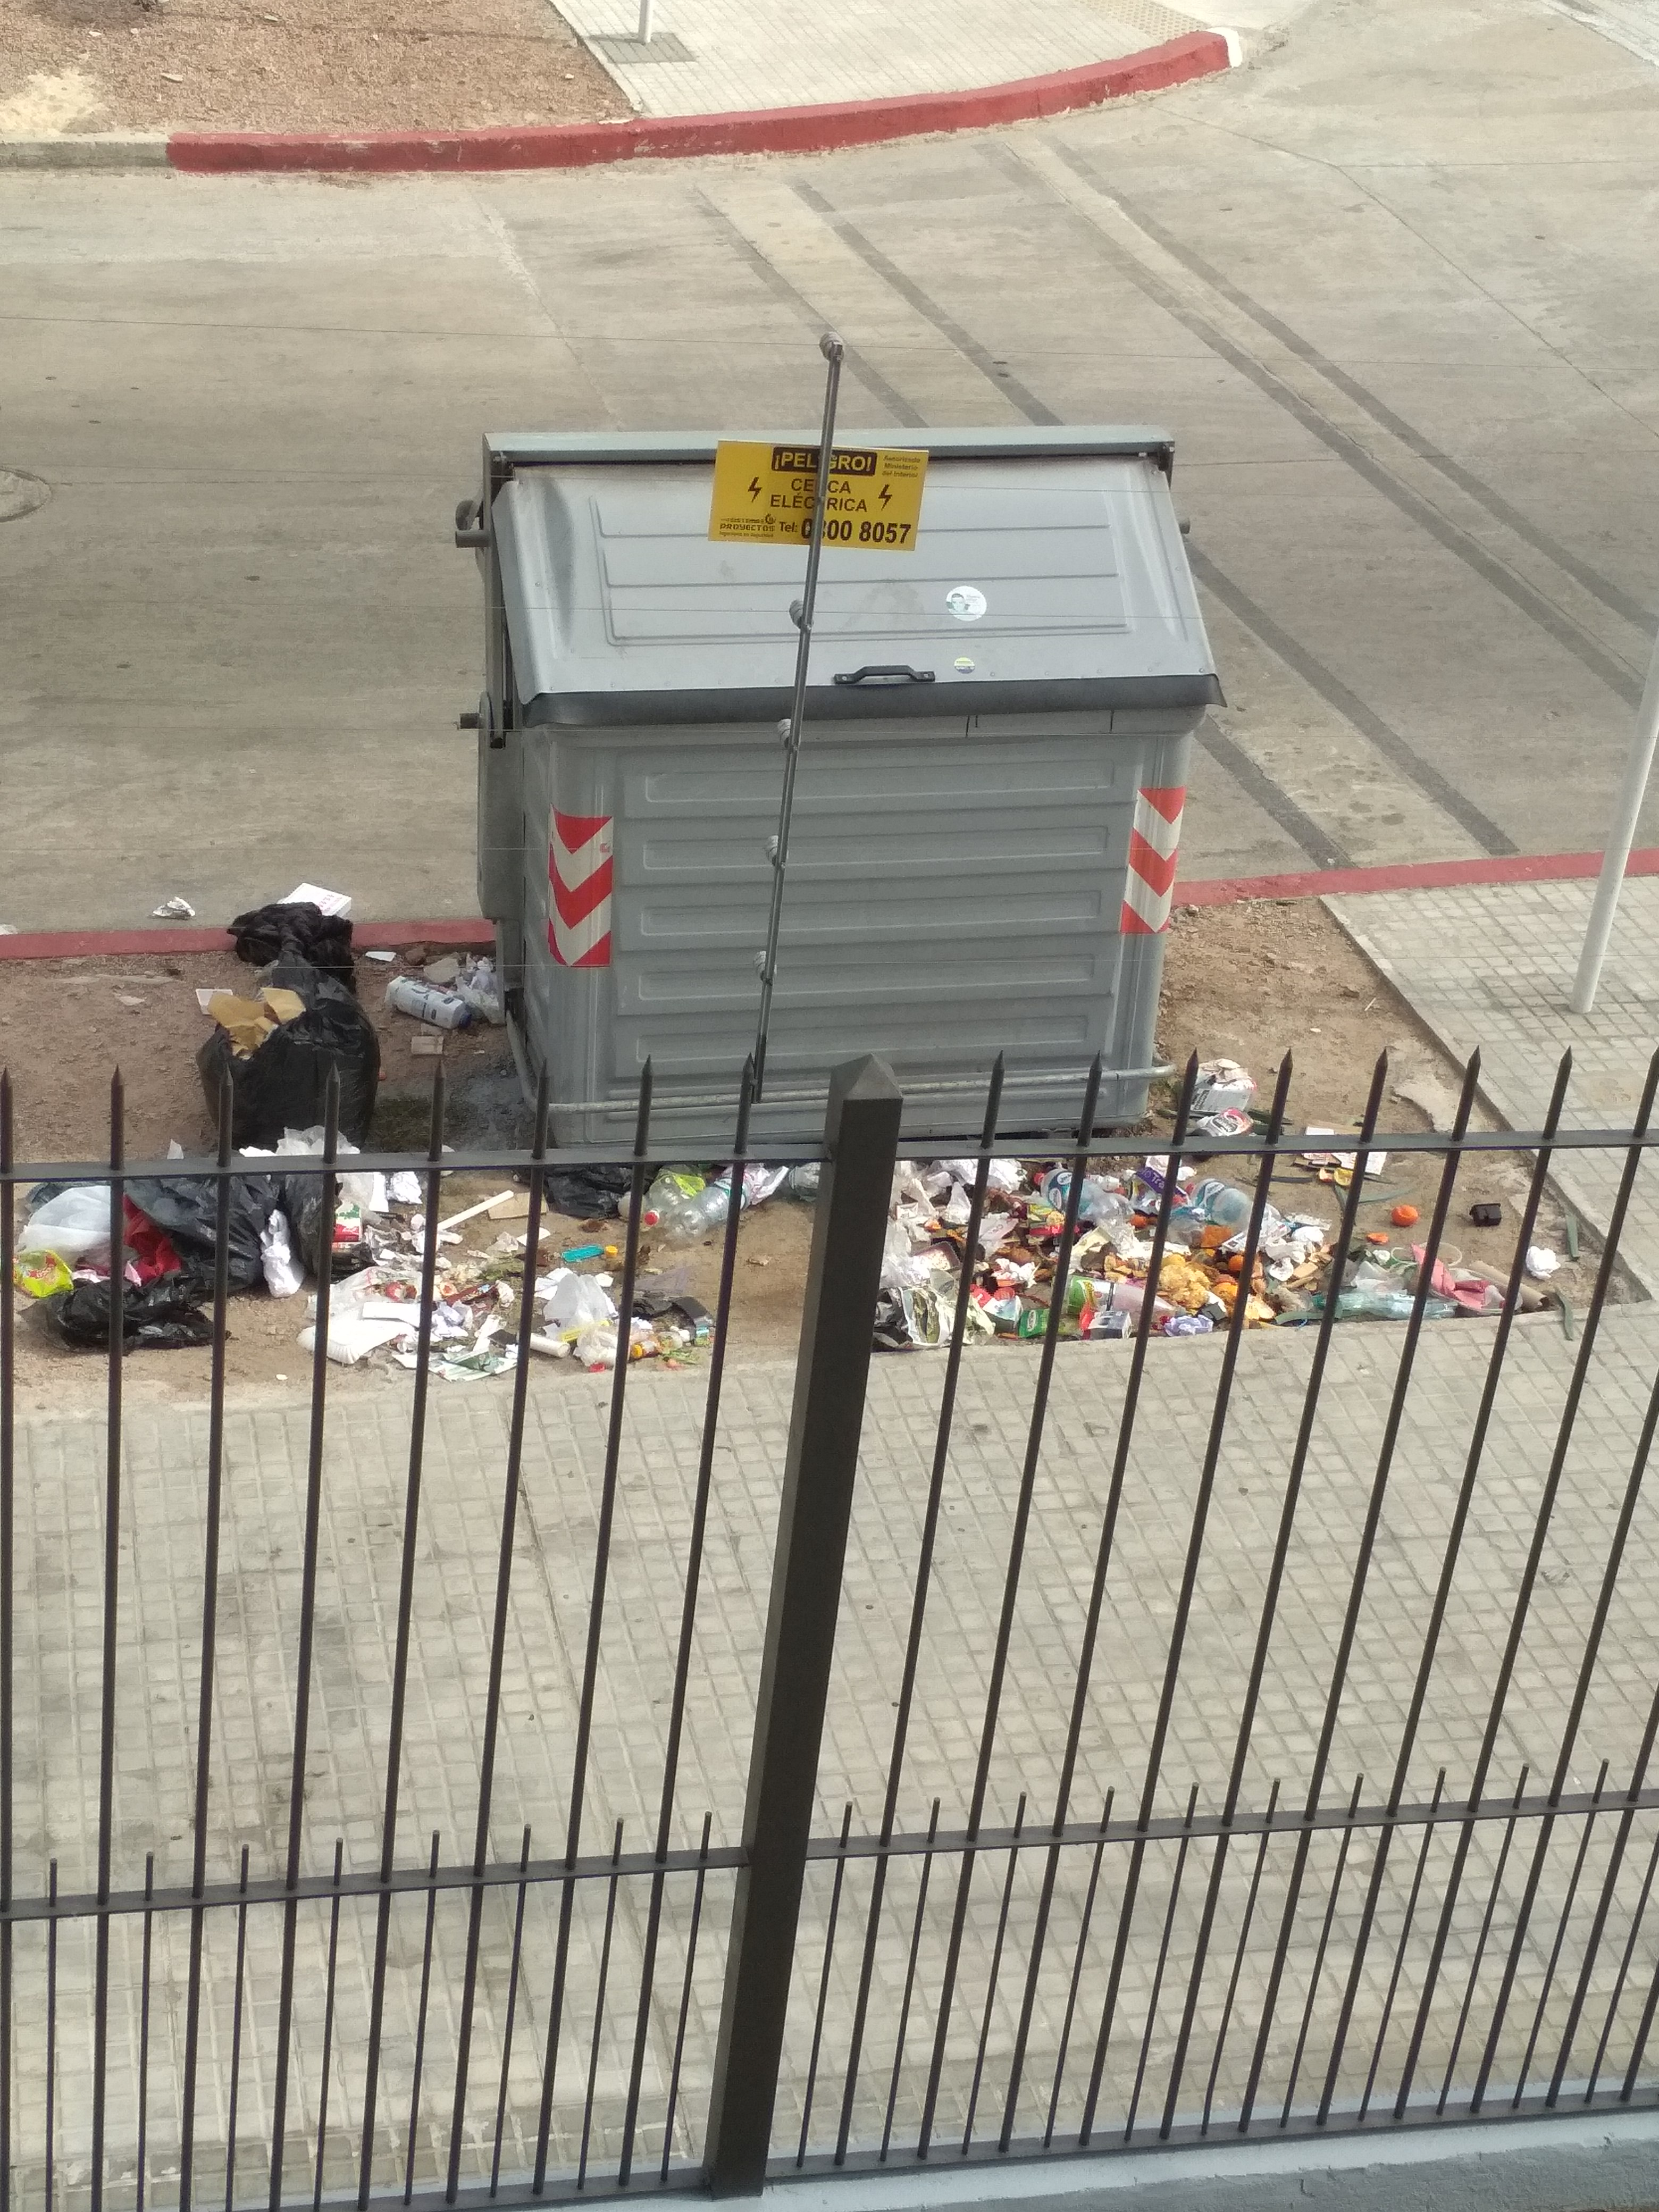container: (453, 430, 1215, 1148)
